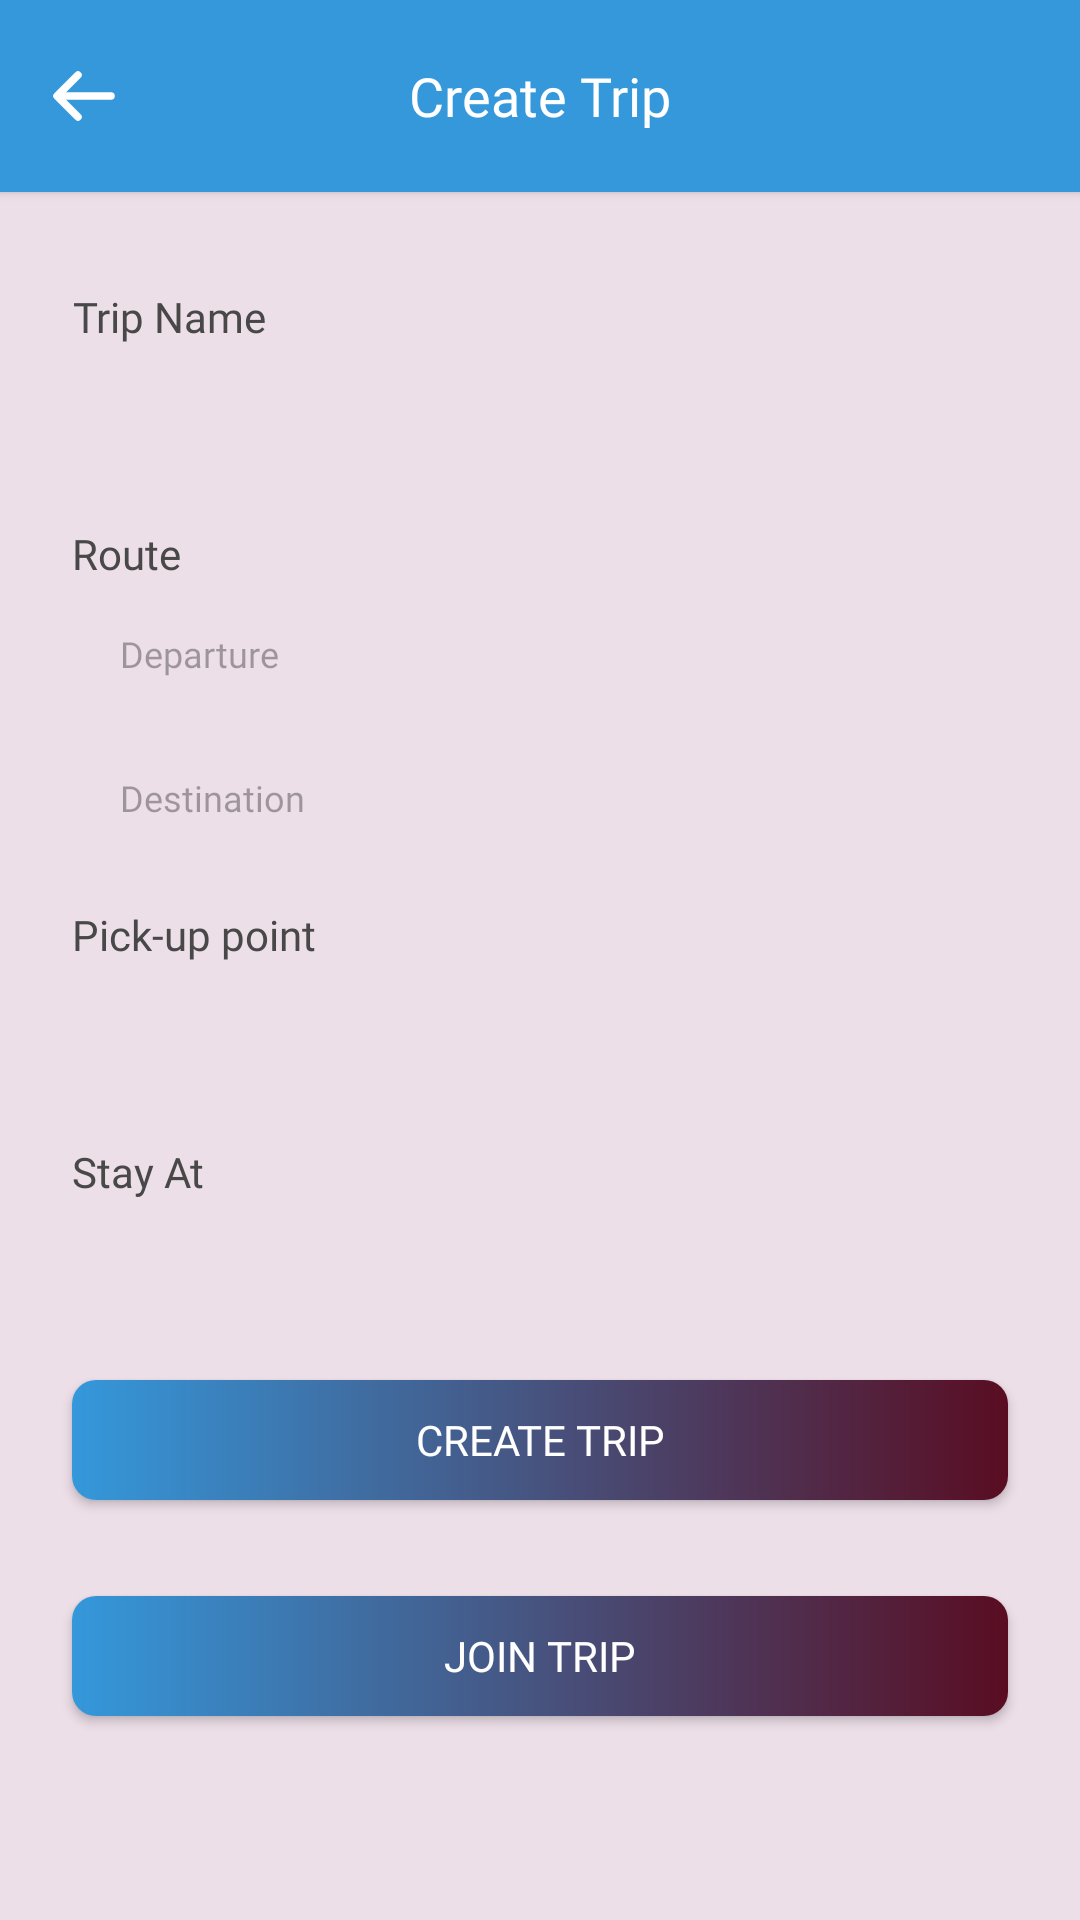

Icon bounding boxes for this 1080px x 1920px phone screenshot, format (x1, y1, x2, y2):
line md arrow left: (53, 71, 115, 121)
